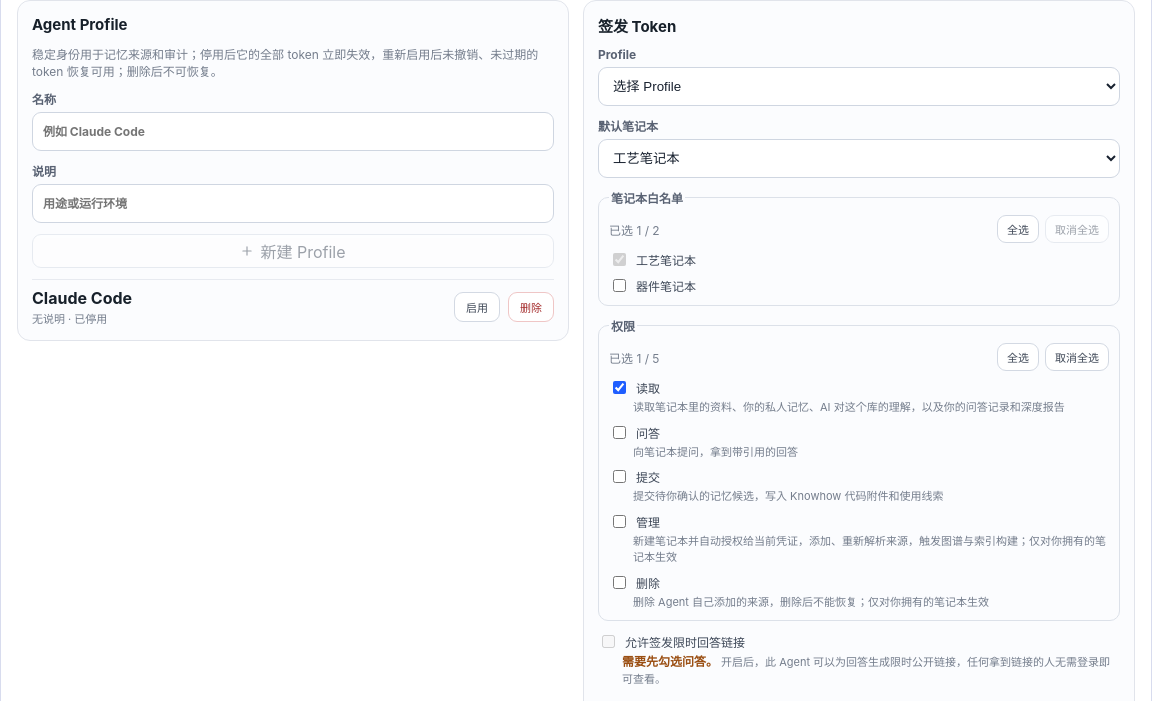
Scenario: 已停用的 Profile 可以在行内确认后重新启用，结果落在该行
Expected: the text "Claude Code" is shown, [32,288,132,308]
Click the button "启用".
click(477, 307)  # box [454,292,500,322]
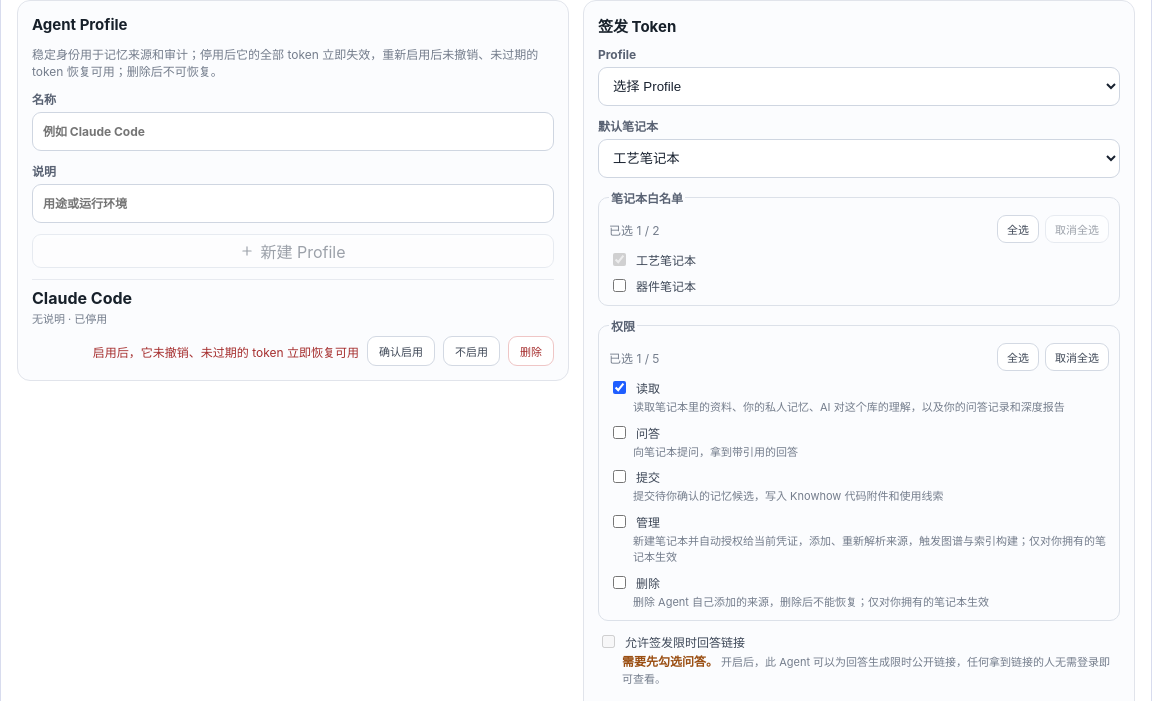
Expected: the text "Claude Code" is shown, [32,288,132,308]
Expected: the text "Claude Code" shows "未撤销、未过期的 token 立即恢复可用", [93,344,359,360]
Click the button "不启用".
click(472, 351)  # box [443,336,500,366]
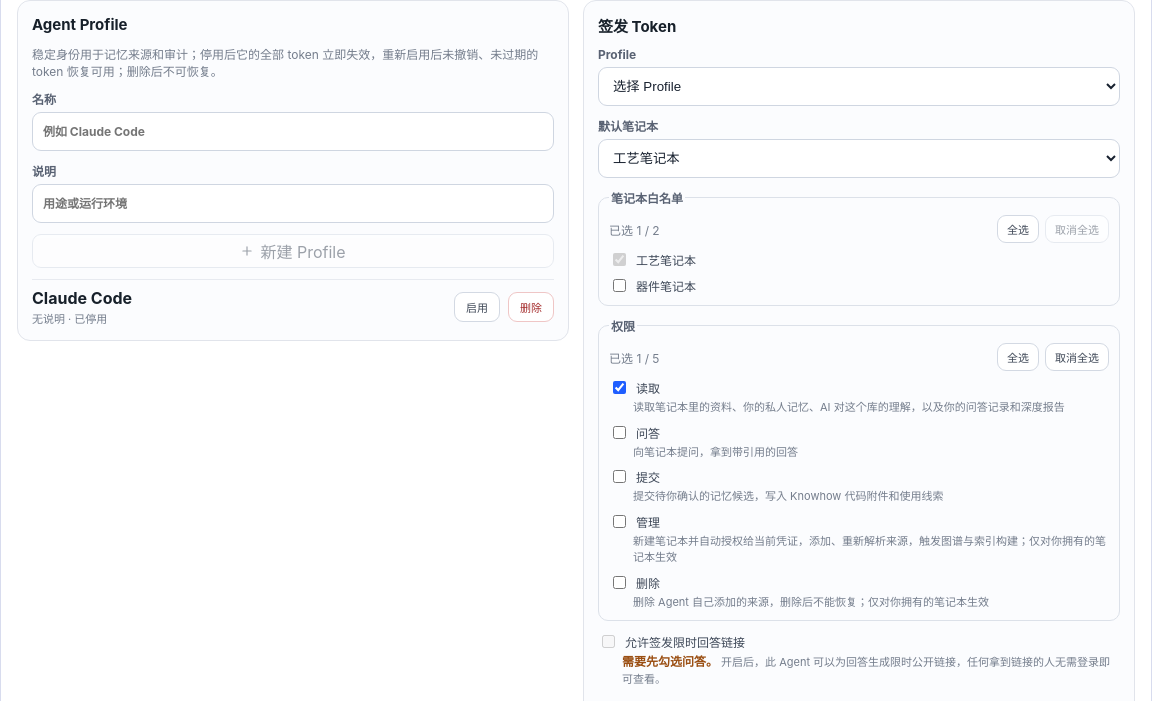
Expected: the text "Claude Code" is shown, [32,288,132,308]
Click the button "启用".
click(477, 307)  # box [454,292,500,322]
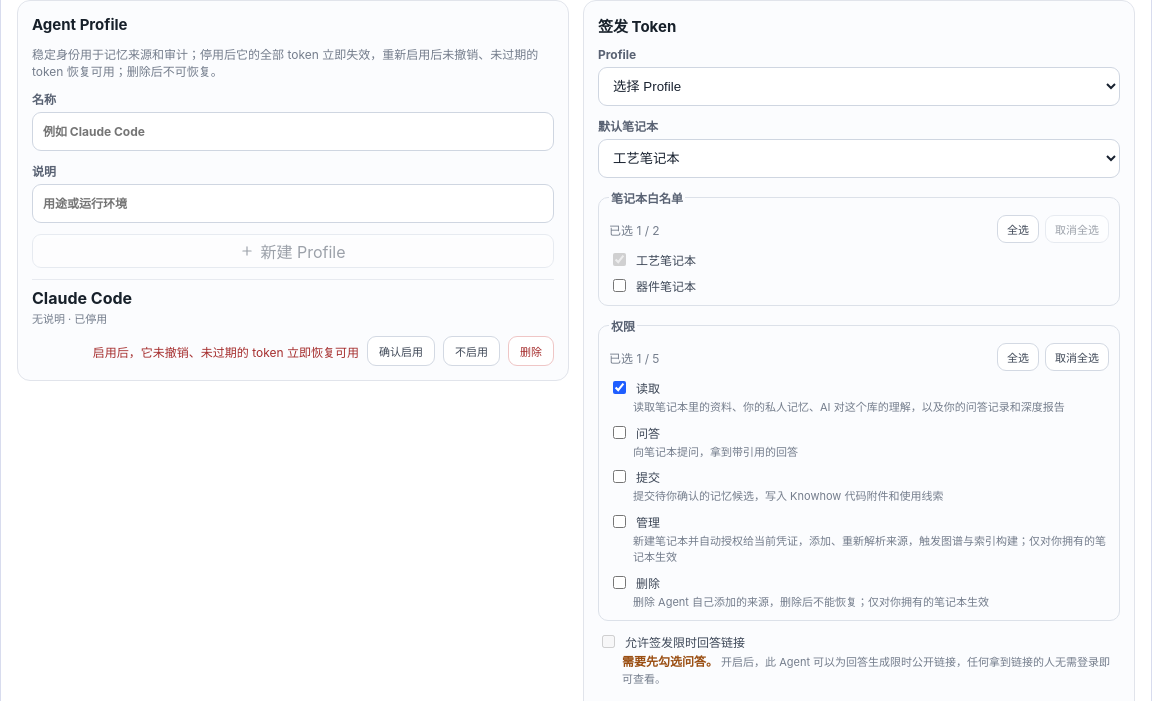
Expected: the text "Claude Code" is shown, [32,288,132,308]
Click the button "确认启用".
click(401, 351)  # box [367,336,435,366]
(page scrolled)
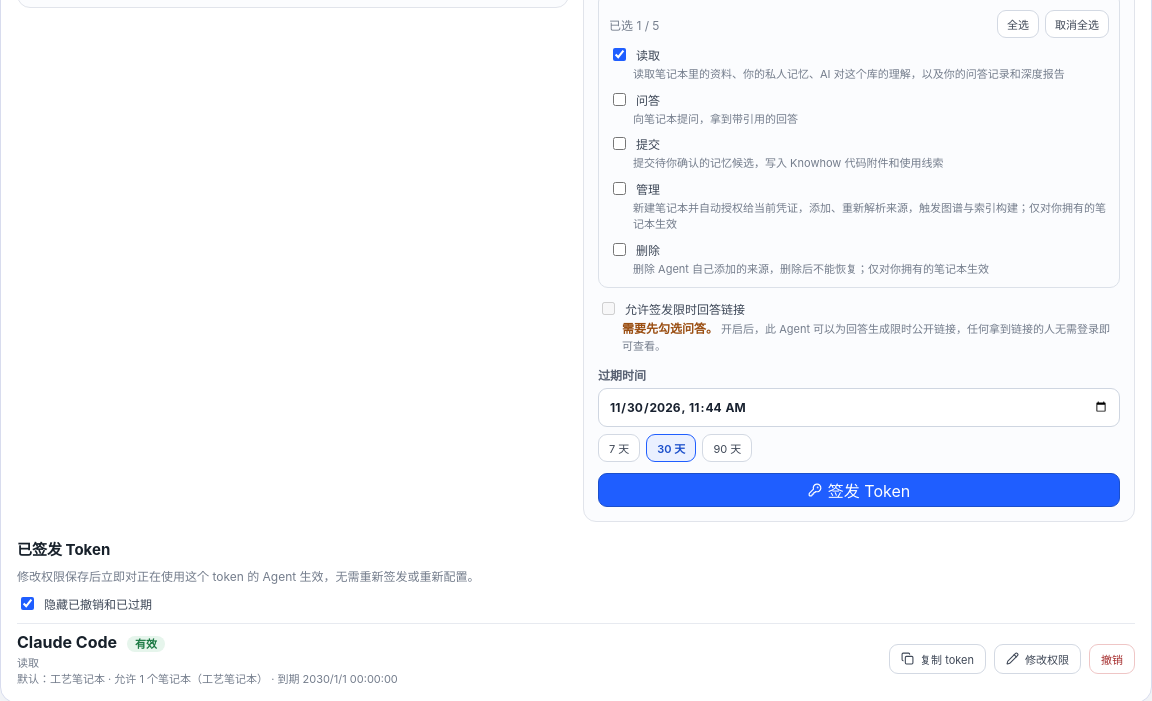
Expected: the button "修改权限" is shown, [994,644,1081,674]
